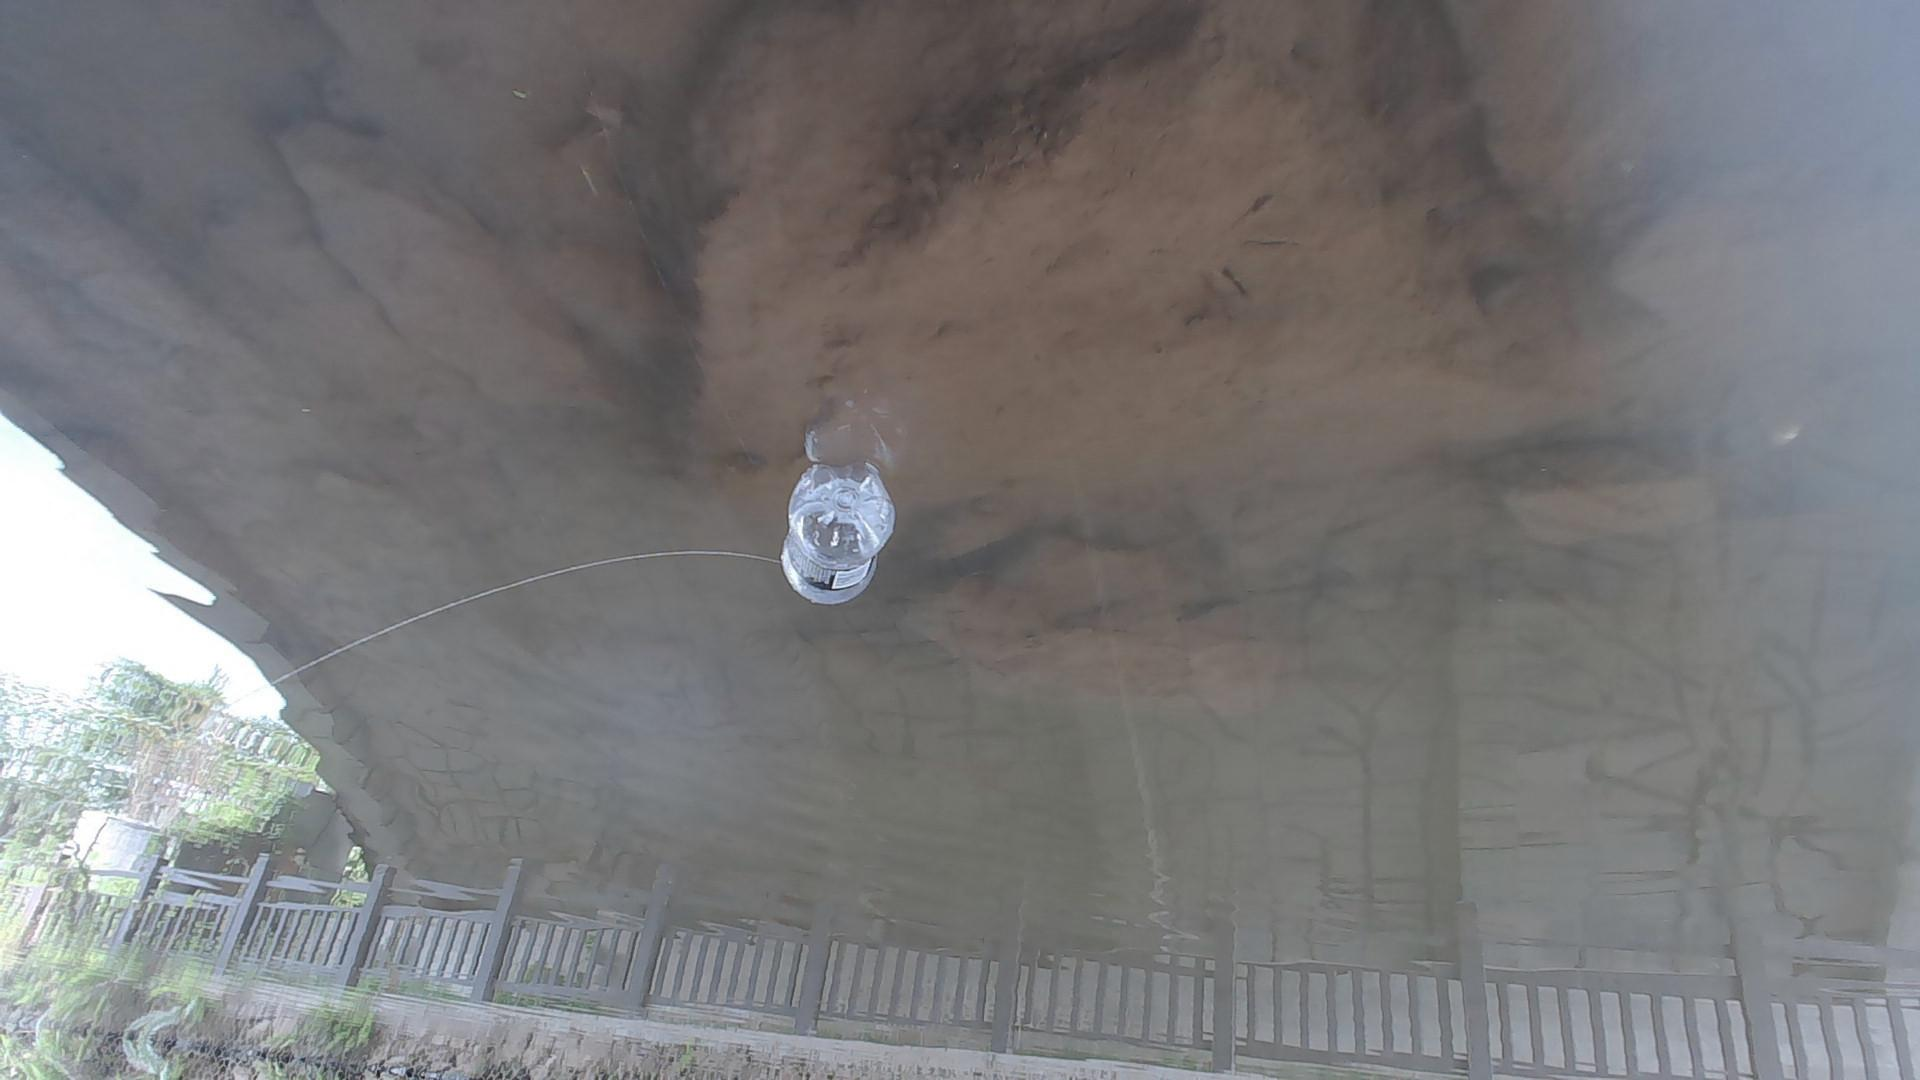Plastic: (771, 462, 899, 621)
